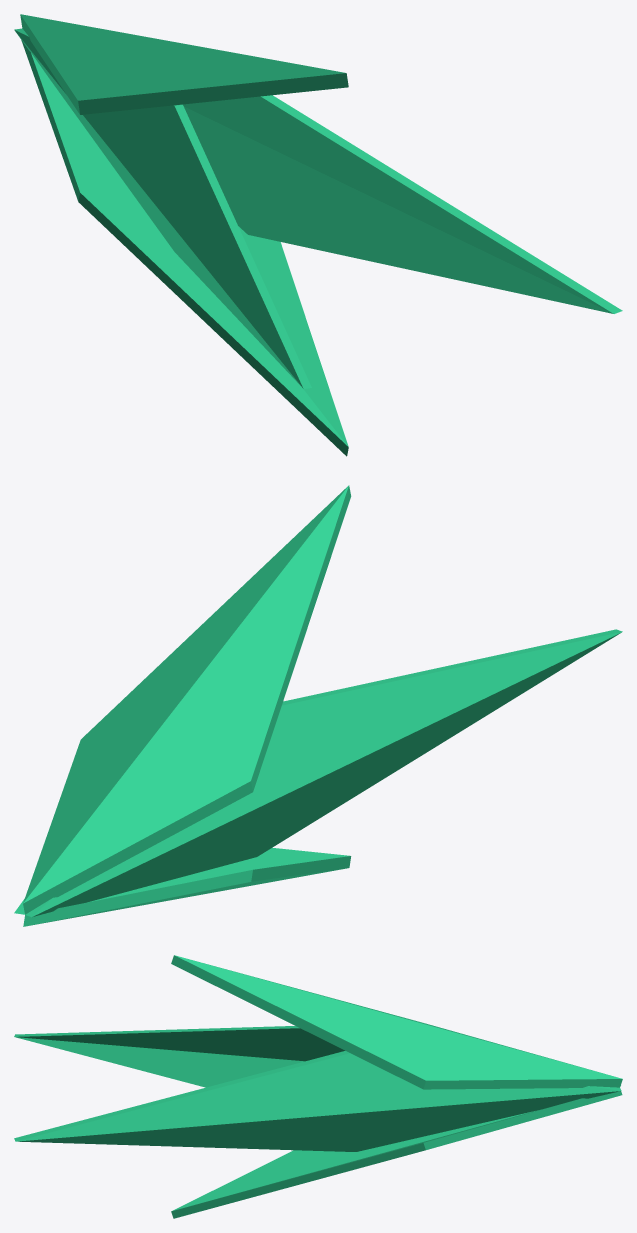
Rendered from pottedPlantPlant.obj.
3 renders of one model, top to bottom at view 1: azimuth 30°, elevation 25°; view 2: azimuth 150°, elevation 25°; view 3: azimuth 270°, elevation 25°, orthographic. The views are drawn at different scales.
Visible parts, largest first — view 1: pottedPlantGreen; view 2: pottedPlantGreen; view 3: pottedPlantGreen.
Boxes of the visible parts, x1,y1,x2,y2 form: pottedPlantGreen: (14, 14, 622, 456); pottedPlantGreen: (14, 485, 622, 926); pottedPlantGreen: (14, 955, 622, 1218).
Bounding box in the file's own units: 0.759 × 0.8704 × 1.82.
